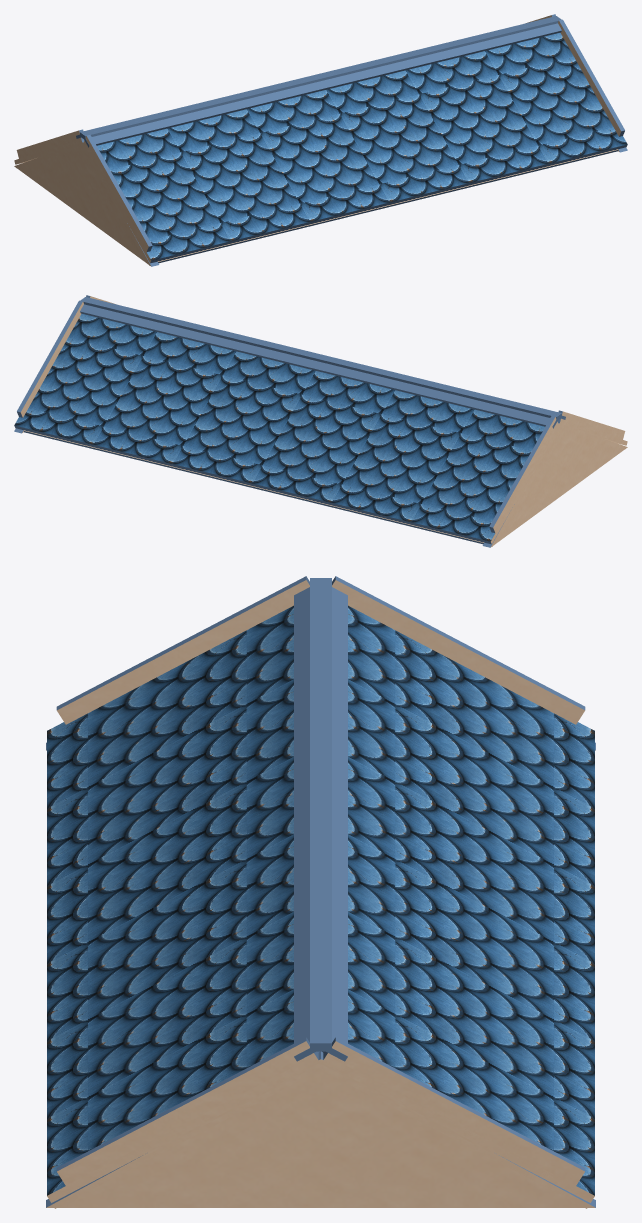
The model's file is Roof_Gable_3x6_NoEave.fbx.
3 views of the same model, one above another, from view 1: azimuth 30°, elevation 25°; view 2: azimuth 150°, elevation 25°; view 3: azimuth 270°, elevation 25° (orthographic). The views are drawn at different scales.
Parts seen in each view (by area): view 1: Roof_Gable_3x6_NoEave; view 2: Roof_Gable_3x6_NoEave; view 3: Roof_Gable_3x6_NoEave.
Part boxes in pixels (bbox=[...]): Roof_Gable_3x6_NoEave: bbox=[14, 14, 627, 266]; Roof_Gable_3x6_NoEave: bbox=[14, 295, 627, 547]; Roof_Gable_3x6_NoEave: bbox=[46, 576, 595, 1208].
Bounding box in the file's own units: 6 × 1.01 × 3.
2 materials, 2 textured.
